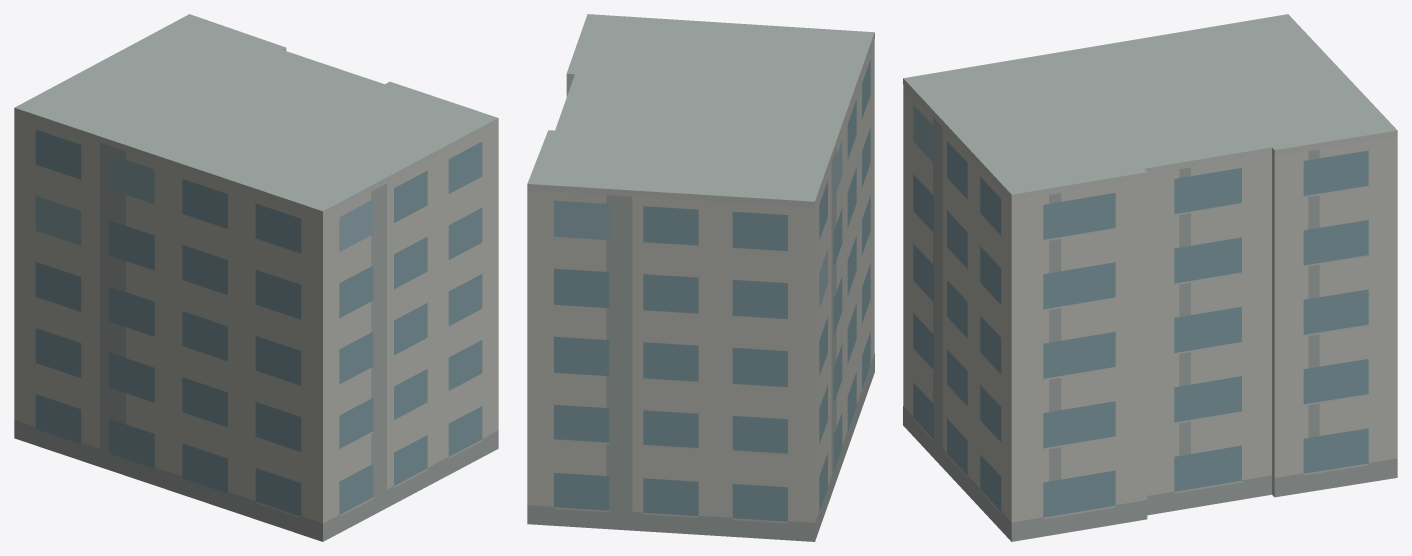
Rendered from survey-upis-32881682.glb.
3 renders of one model, left to right at view 1: azimuth 30°, elevation 25°; view 2: azimuth 150°, elevation 25°; view 3: azimuth 270°, elevation 25°, orthographic. The views are drawn at different scales.
Parts seen in each view (by area): view 1: survey-upis-32881682.tmp; view 2: survey-upis-32881682.tmp; view 3: survey-upis-32881682.tmp.
Part boxes in pixels (left/top/right/bottom): survey-upis-32881682.tmp: left=14, top=14, right=498, bottom=541; survey-upis-32881682.tmp: left=527, top=14, right=874, bottom=541; survey-upis-32881682.tmp: left=903, top=14, right=1397, bottom=541.
Size of the model in its own units: 14.63 by 13.1 by 16.92.
